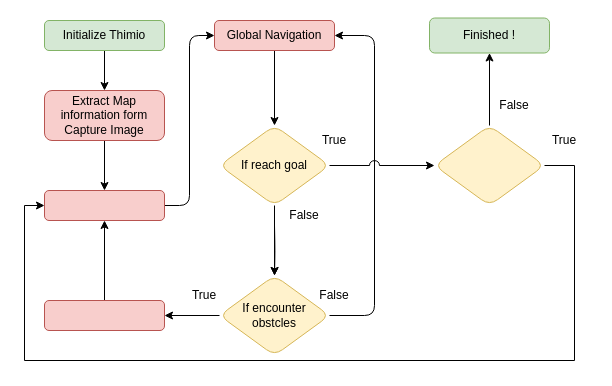
Some shapes in this 612 by 386 pixel diagram are drawn without their labels. Each missing label, with the centre of its shape:
Global Path Planning: point 104,205
If checkpoint: point 489,165
Local Navigation: point 104,315
